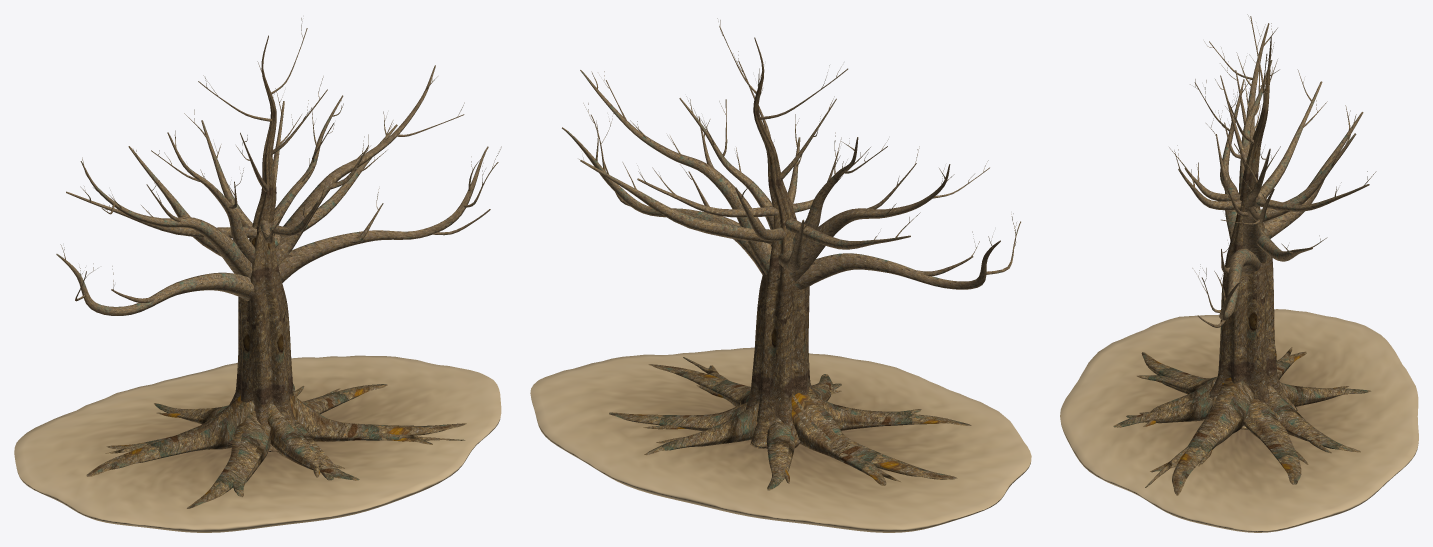
File: Ketapang_Stage_0.glb
The picture shows the model from 3 angles, left to right: view 1: azimuth 30°, elevation 25°; view 2: azimuth 150°, elevation 25°; view 3: azimuth 270°, elevation 25°; orthographic projection. The views are drawn at different scales.
Visible parts, largest first — view 1: Loam and sand, Trunk, roots and main branches; view 2: Loam and sand, Trunk, roots and main branches; view 3: Loam and sand, Trunk, roots and main branches.
Part boxes in pixels (x1,y1,x2,y2): Loam and sand: (14, 355, 501, 532); Trunk, roots and main branches: (56, 18, 501, 508); Loam and sand: (530, 347, 1031, 532); Trunk, roots and main branches: (562, 18, 1020, 490); Loam and sand: (1060, 309, 1418, 532); Trunk, roots and main branches: (1113, 14, 1376, 495).
Bounding box in the file's own units: 1.6 × 1.39 × 1.1.
4 materials, 3 textured.
